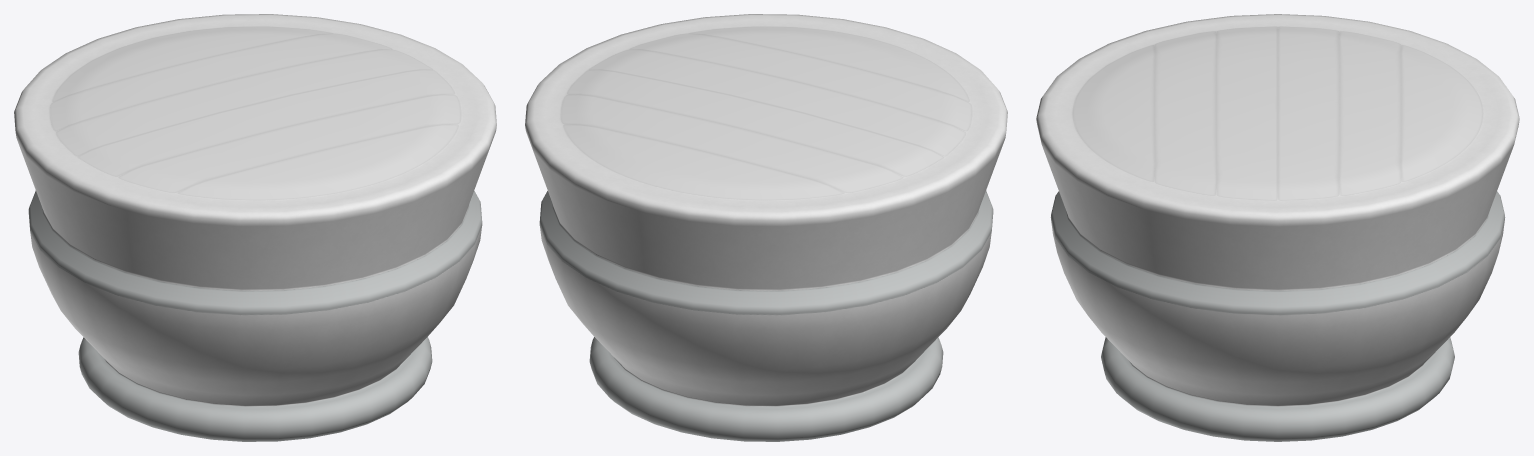
File: Chair06.FBX
3 renders of one model, left to right at view 1: azimuth 30°, elevation 25°; view 2: azimuth 150°, elevation 25°; view 3: azimuth 270°, elevation 25°, orthographic.
Visible parts, largest first — view 1: Chair06; view 2: Chair06; view 3: Chair06.
Part boxes in pixels (x1,y1,x2,y2): Chair06: [14, 14, 496, 441]; Chair06: [525, 14, 1007, 441]; Chair06: [1036, 14, 1519, 441].
Size of what is drawn, in the model's own units: 0.8999 by 0.5512 by 0.8999.
